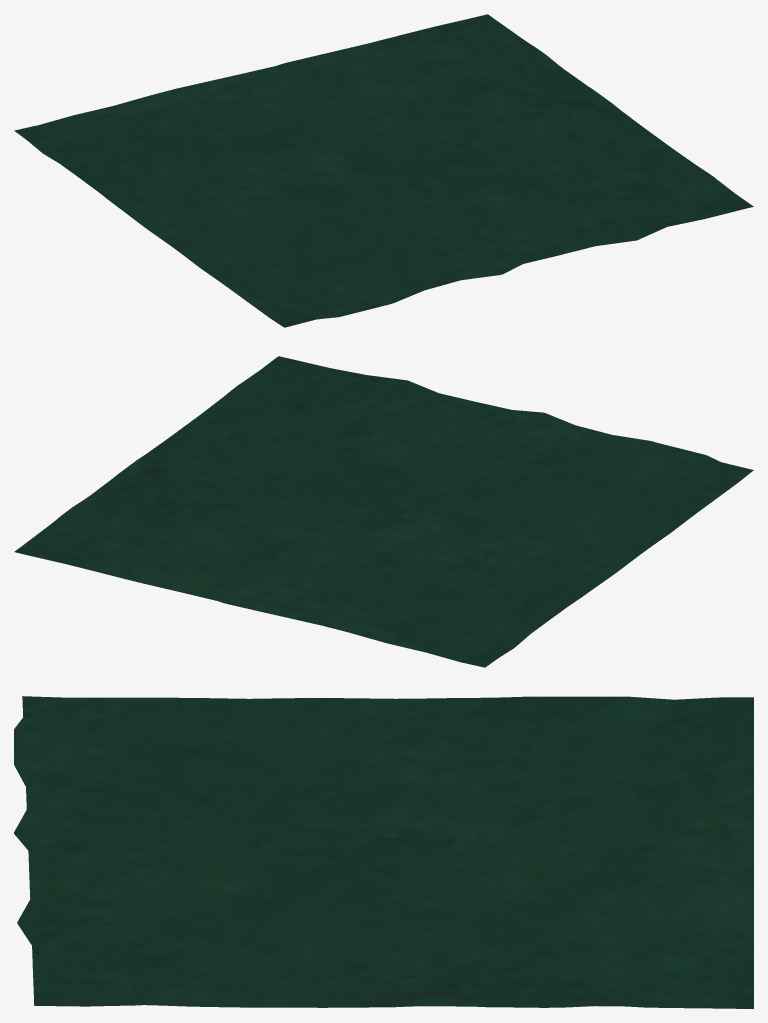
The picture shows the model from 3 angles, top to bottom: view 1: azimuth 30°, elevation 25°; view 2: azimuth 150°, elevation 25°; view 3: azimuth 270°, elevation 25°; orthographic projection. The views are drawn at different scales.
Bounding box in the file's own units: 52.22 × 0.7065 × 52.22.
Materials: 2 (2 with a texture image).
